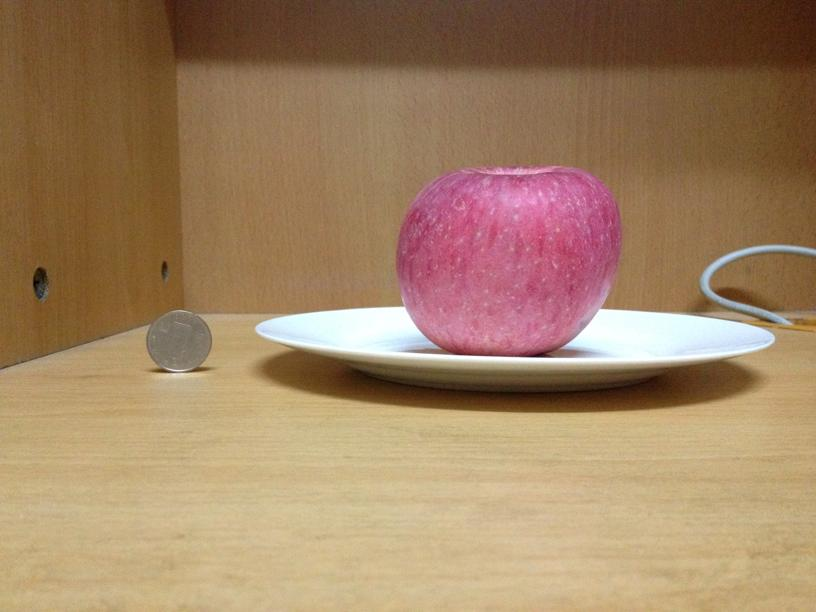apple: (396, 162, 622, 356)
coin: (146, 310, 211, 373)
